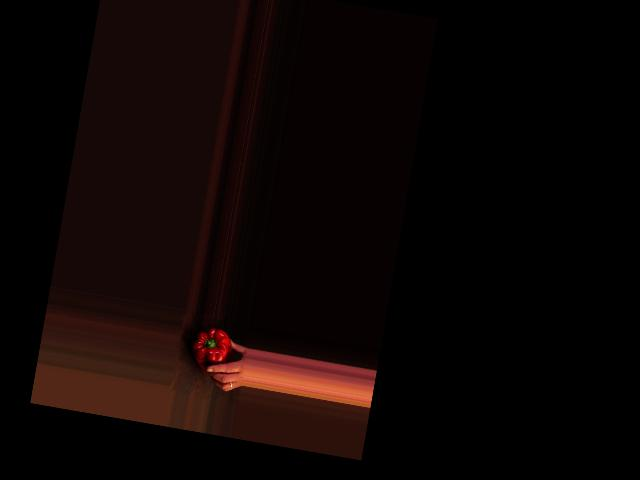bell_pepper: (188, 323, 236, 373)
